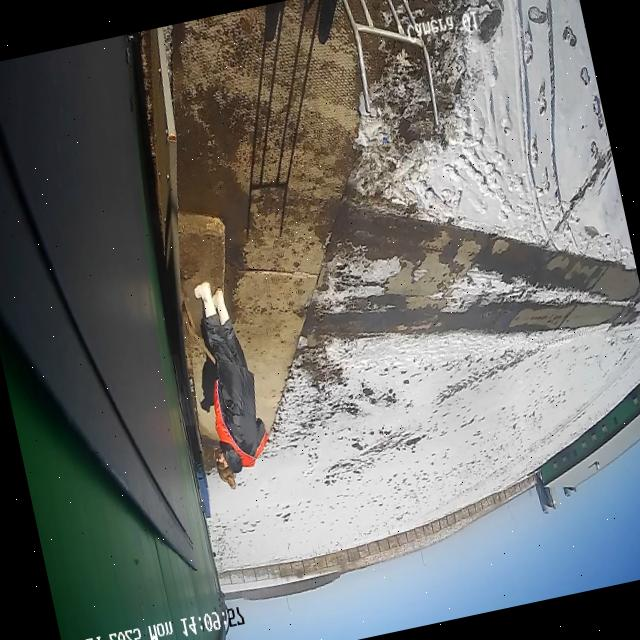Red uniform: (174, 272, 276, 481)
